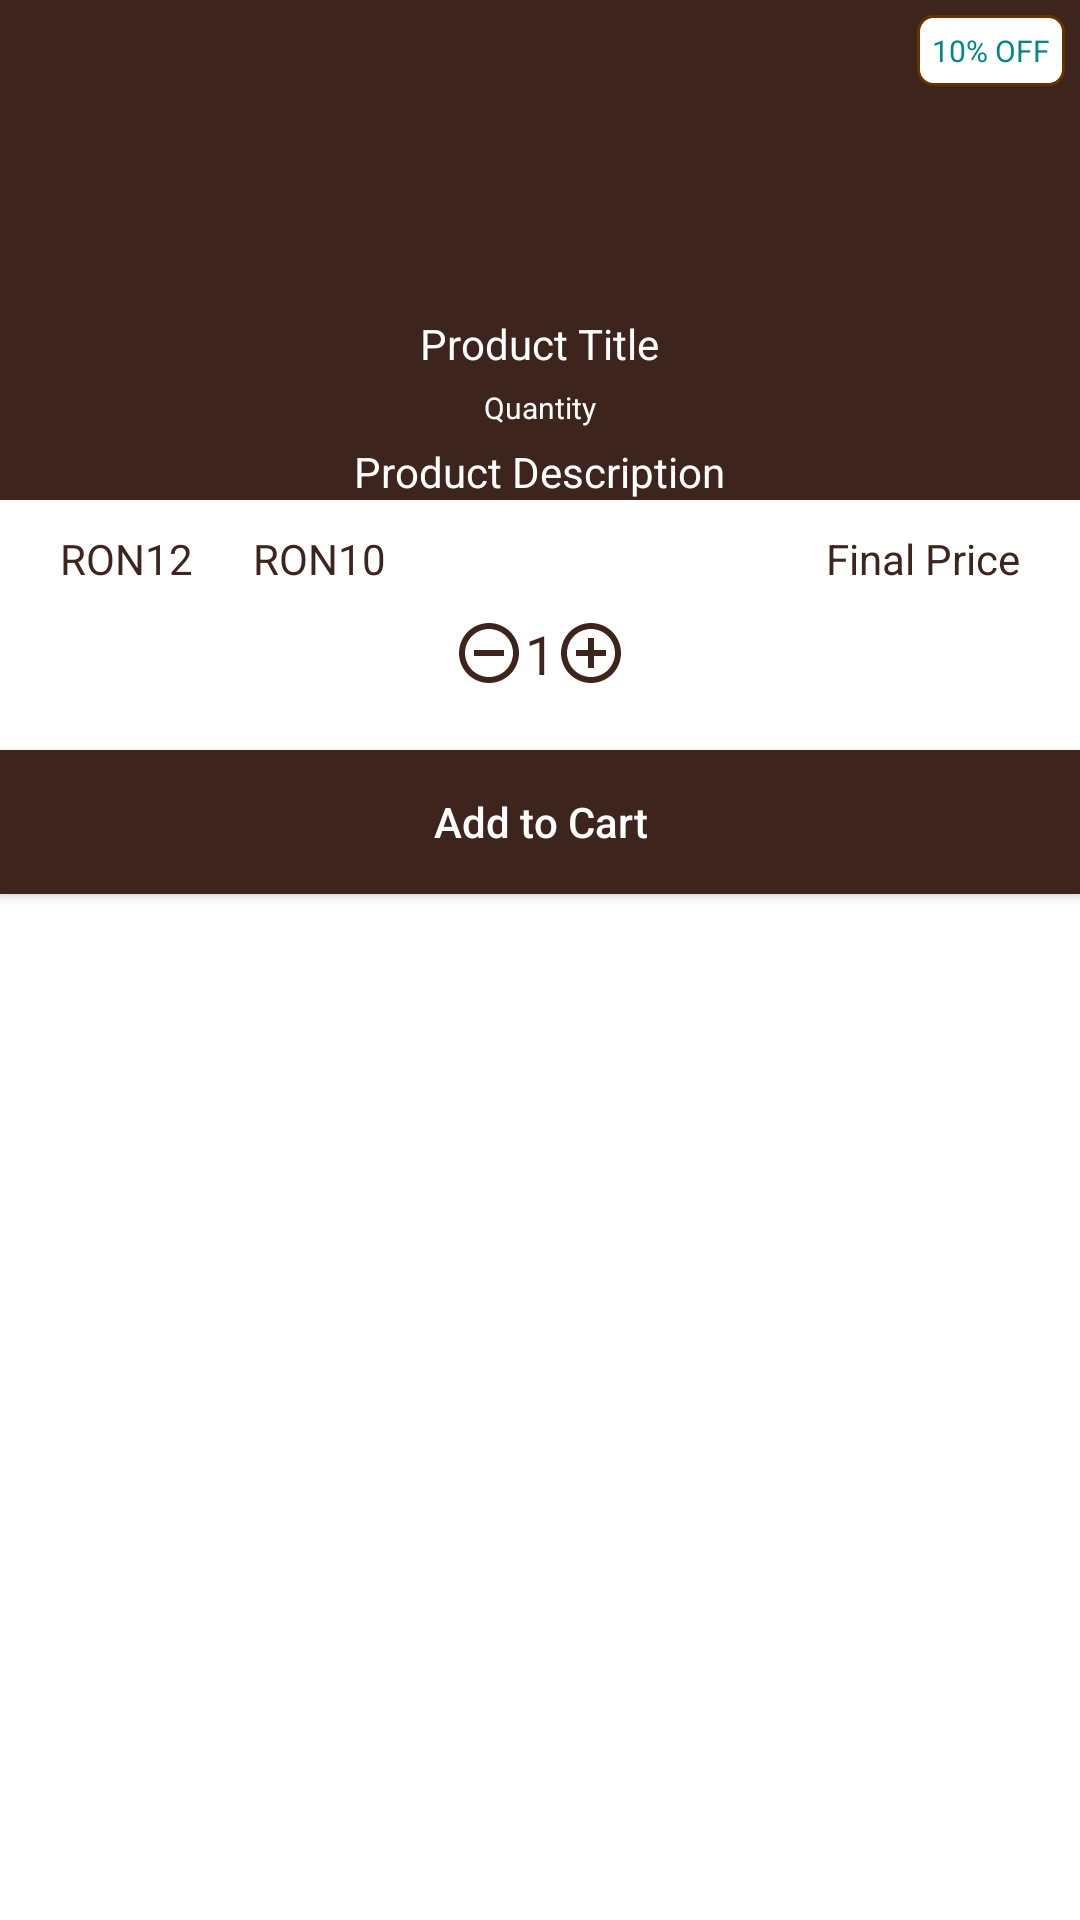

Icon bounding boxes for this 1080*1920 phone screenshot, format (x1, y1, x2, y2):
add circle brown: (561, 623, 621, 683)
remove circle brown: (459, 623, 519, 683)
